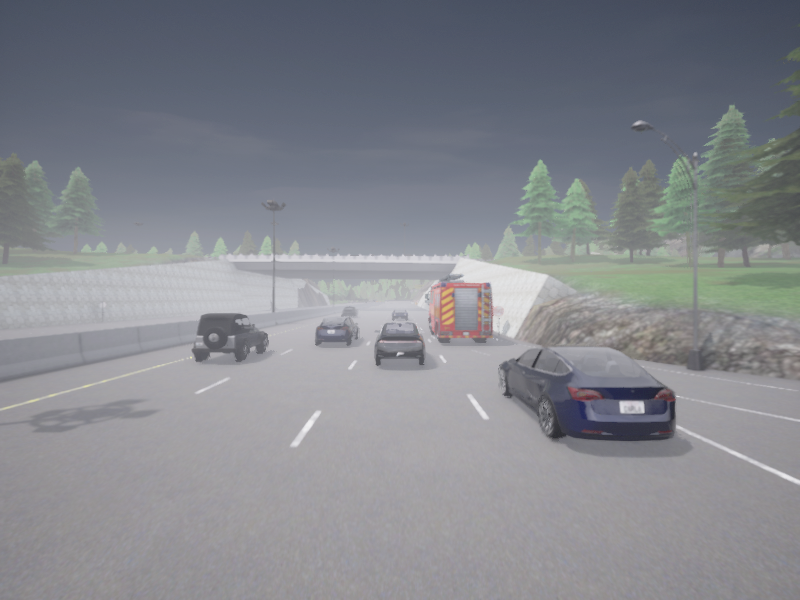vehicle: (499, 346, 675, 440), (425, 274, 492, 341), (192, 313, 267, 360), (374, 323, 425, 364), (315, 316, 358, 344), (342, 306, 358, 316), (392, 309, 407, 319)
